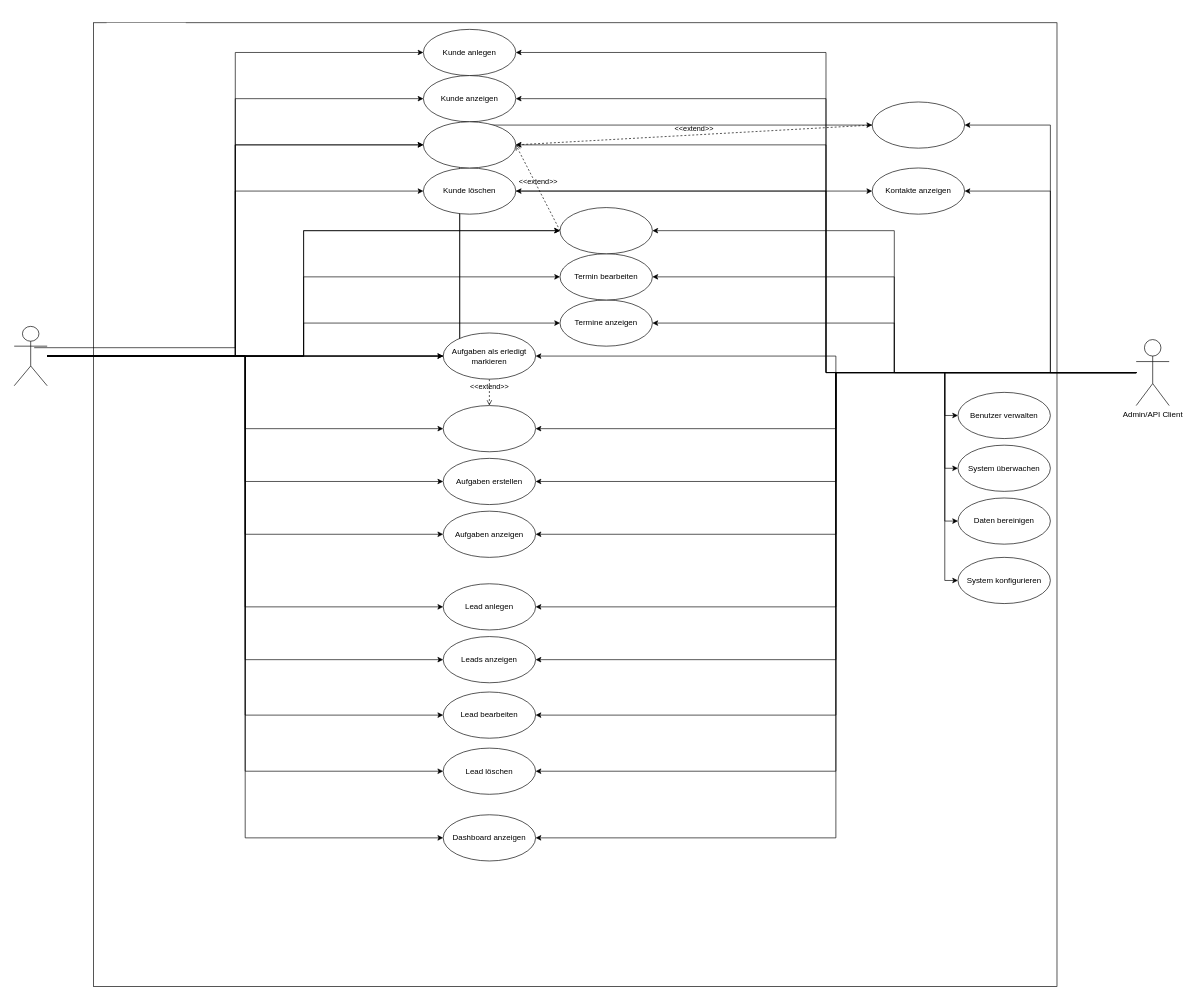
Image size: 1194x998. Some labels were removed from this diagram. The centre of each missing label's shape, as x and y in pixels:
Aufgaben bearbeiten: point 489,428
Flask CRM System: point 145,32
Kontakt hinzufügen: point 918,124
Kunde bearbeiten: point 469,144
Sales User: point 30,356
Termin erstellen: point 605,230
